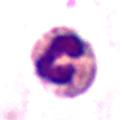monocyte: (29, 25, 97, 97)
